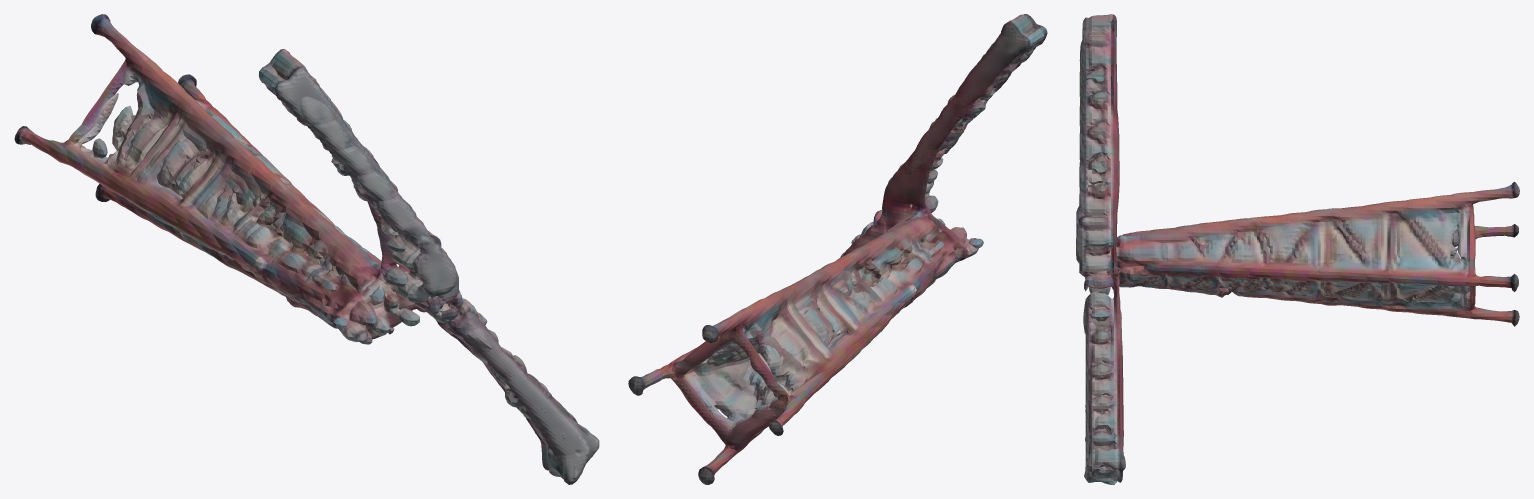
Rendered from triposr_access_gantry.glb.
3 views of the same model, side by side, from view 1: azimuth 30°, elevation 25°; view 2: azimuth 150°, elevation 25°; view 3: azimuth 270°, elevation 25° (orthographic). The views are drawn at different scales.
Visible parts, largest first — view 1: geometry_0; view 2: geometry_0; view 3: geometry_0.
Boxes of the visible parts, x1,y1,x2,y2 form: geometry_0: (14, 14, 599, 484); geometry_0: (628, 14, 1047, 484); geometry_0: (1076, 14, 1519, 484).
Bounding box in the file's own units: 0.6102 × 0.8763 × 0.953.
